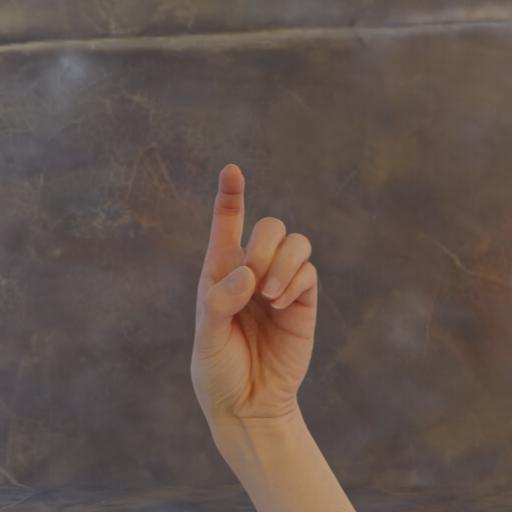X: (181, 143, 329, 439)
